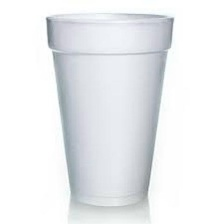paper_cup: (37, 8, 178, 212)
